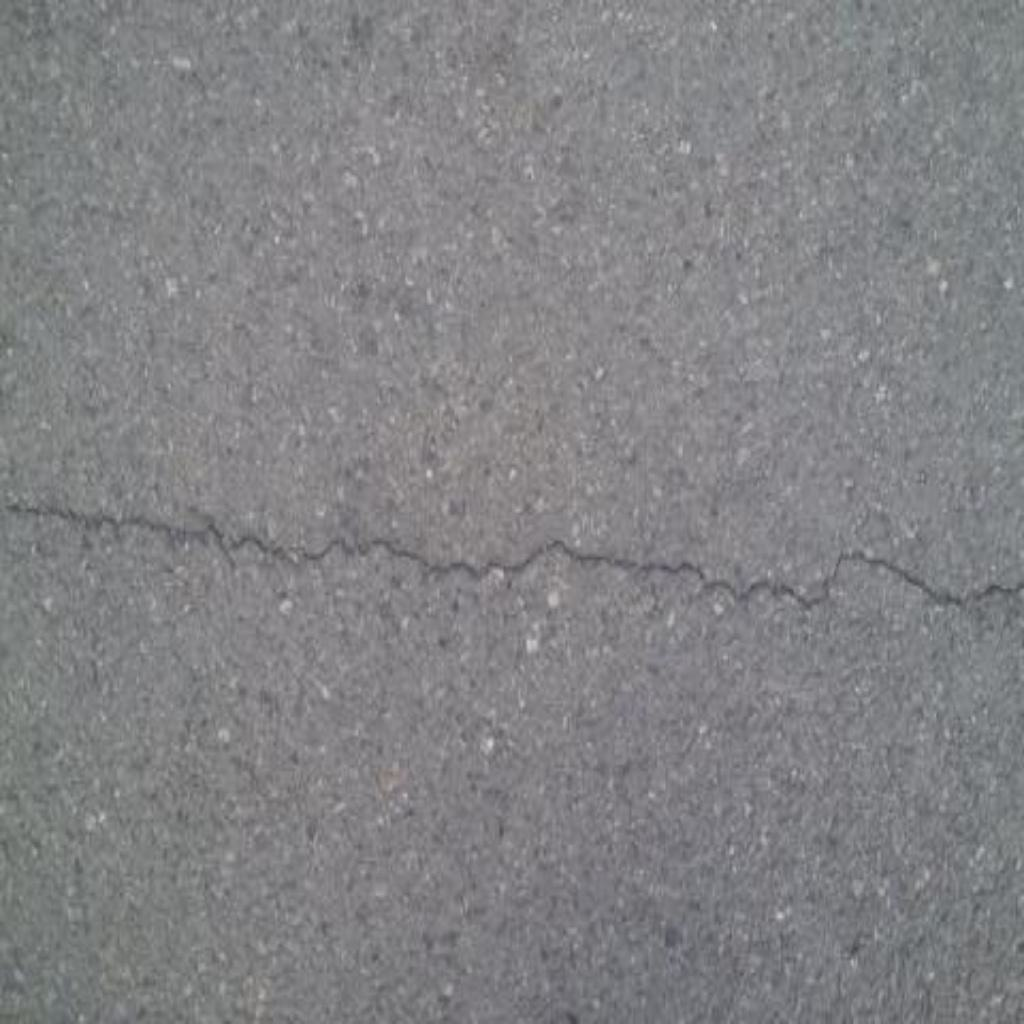Crack: (1, 498, 1024, 611)
